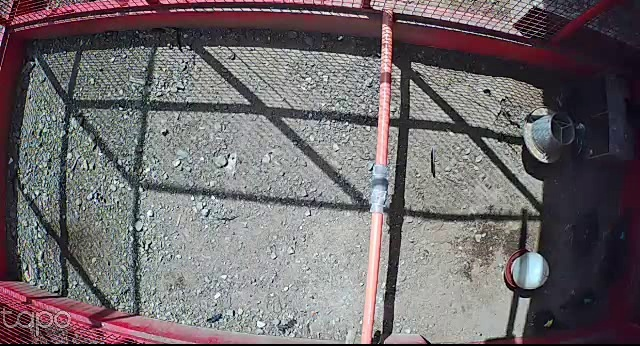Chicken: (560, 203, 605, 260), (525, 307, 572, 336)
Drinker: (503, 248, 550, 292)
Feeder: (522, 104, 577, 168)
Rooster: (553, 83, 595, 164)
Saddle_Color_Yellow: (545, 319, 553, 327)
